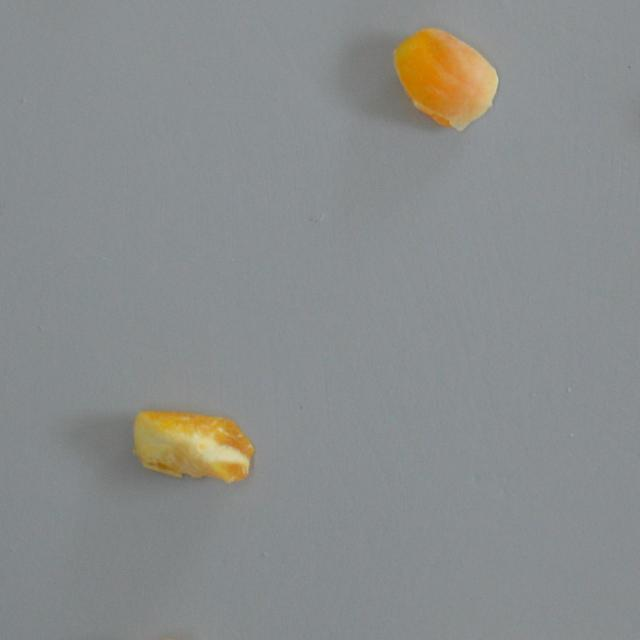pelicula: (382, 22, 509, 136), (128, 388, 255, 501)
